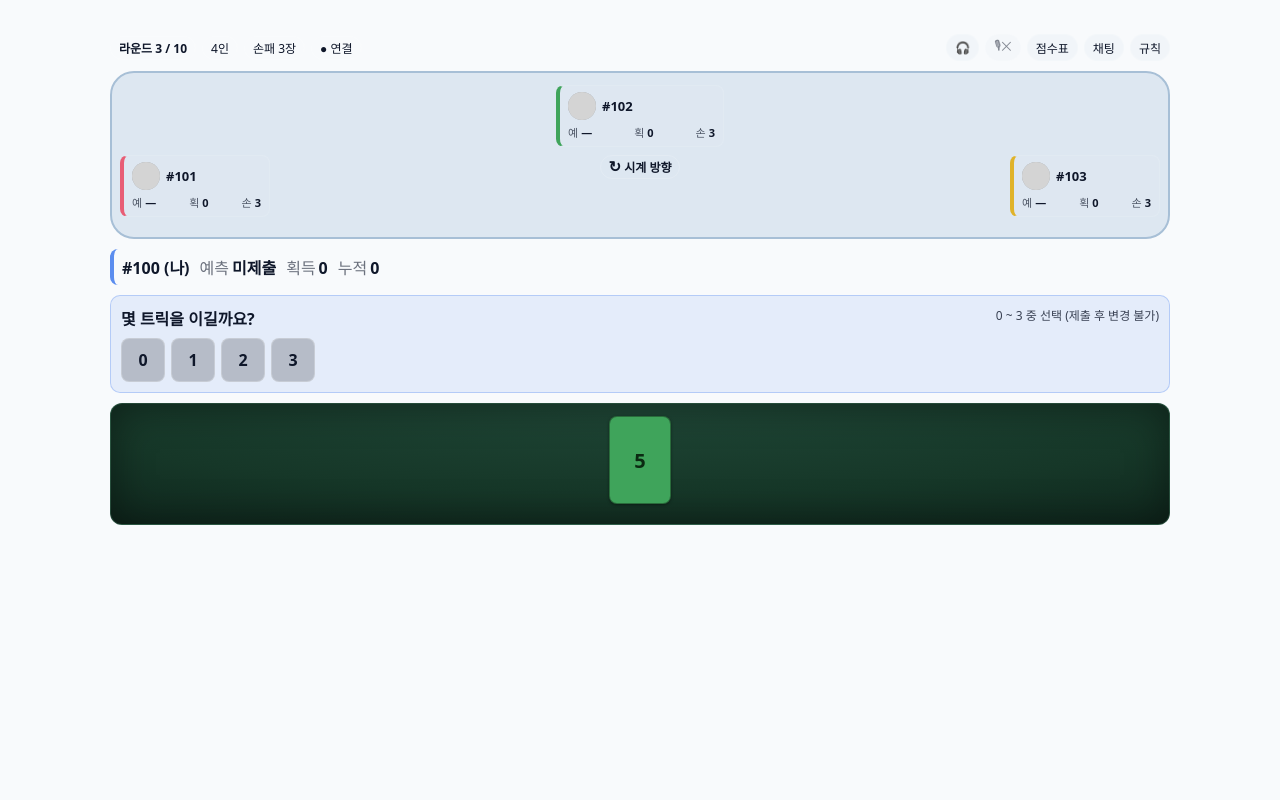
Scenario: 규칙 버튼 (D-121) › 누르면 스컬킹 튜토리얼이 열리고, 게임 액션은 보내지 않는다
Step 1. Click the button "규칙" → (1150, 48), box [1130,34,1170,61]
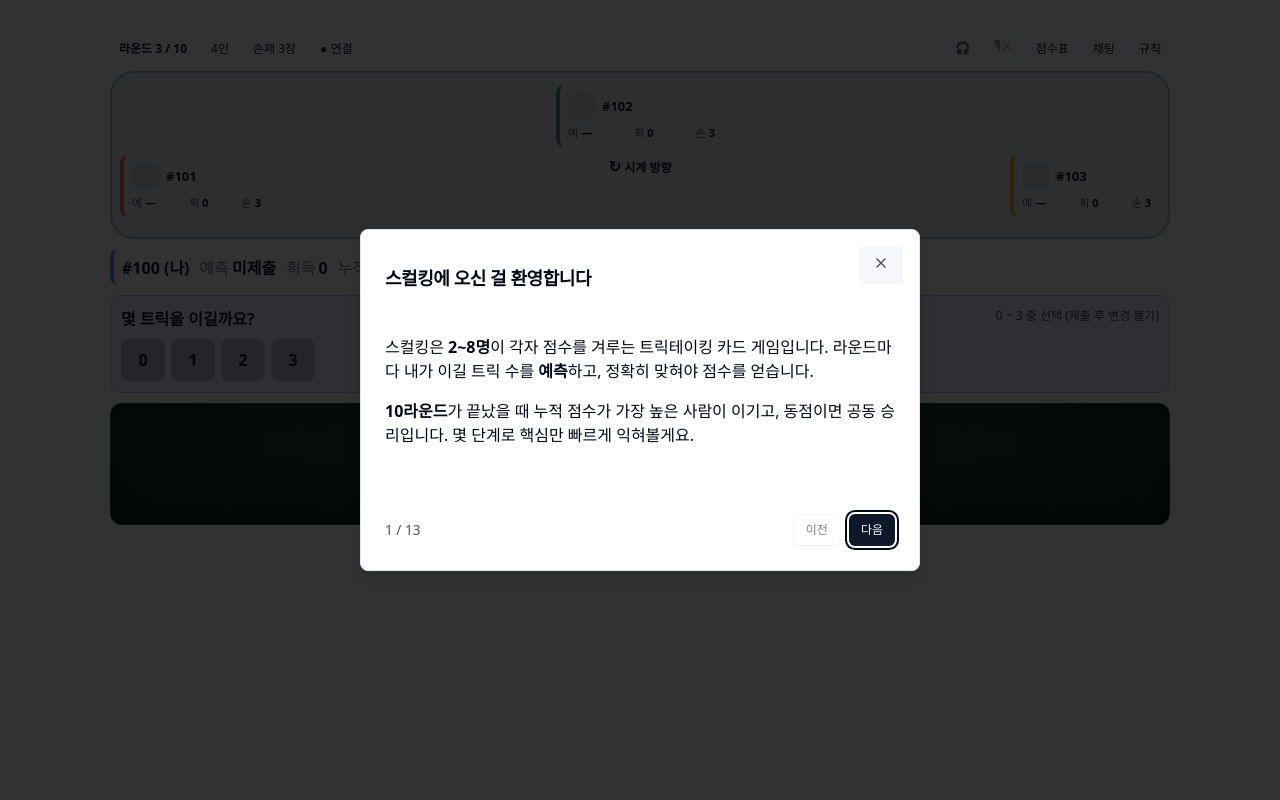
Result: the heading "스컬킹에 오신 걸 환영합니다" is shown at [385,266,591,290]
